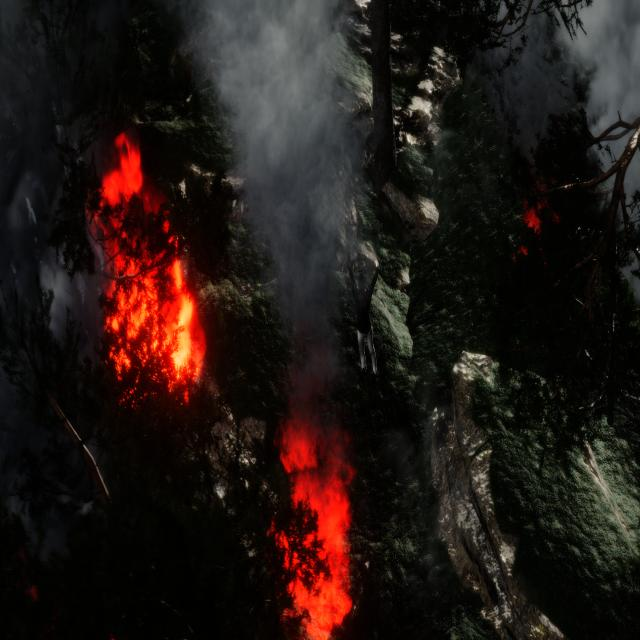Human: (344, 255, 384, 411)
